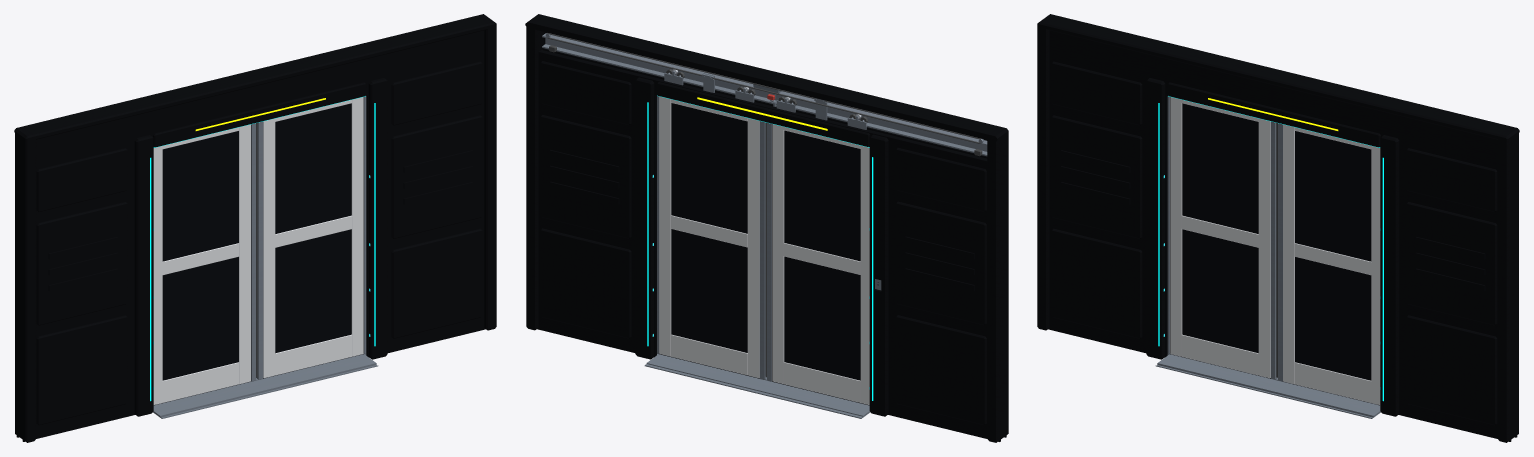
3 views of the same model, side by side, from view 1: azimuth 30°, elevation 25°; view 2: azimuth 150°, elevation 25°; view 3: azimuth 330°, elevation 25° (orthographic).
Parts seen in each view (by area): view 1: frame, leaf_R_core, leaf_L_core, leaf_R_face, leaf_L_face, threshold, leaf_R_stiles, leaf_L_stiles, reveal_strips, leaf_R_seal; view 2: frame, leaf_L_core, leaf_R_core, leaf_R_face, leaf_L_face, slide_Track, threshold, leaf_R_stiles, slide_Belt, leaf_L_stiles, reveal_strips, leaf_R_seal; view 3: frame, leaf_L_core, leaf_R_core, leaf_L_face, leaf_R_face, threshold, leaf_L_stiles, leaf_R_stiles, reveal_strips, leaf_L_seal.
Boxes of the visible parts, box(x1,y1,x2,y2) form: frame: box(14, 14, 496, 442); leaf_R_core: box(263, 97, 363, 378); leaf_L_core: box(154, 124, 251, 405); leaf_R_face: box(263, 97, 363, 378); leaf_L_face: box(153, 124, 250, 404); threshold: box(153, 354, 378, 418); leaf_R_stiles: box(256, 96, 366, 379); leaf_L_stiles: box(251, 123, 255, 381); reveal_strips: box(150, 96, 375, 401); leaf_R_seal: box(256, 123, 257, 377); frame: box(525, 14, 1008, 442); leaf_L_core: box(772, 124, 869, 405); leaf_R_core: box(659, 103, 759, 378); leaf_R_face: box(659, 96, 759, 377); leaf_L_face: box(772, 124, 869, 404); slide_Track: box(542, 33, 987, 156); threshold: box(644, 354, 870, 418); leaf_R_stiles: box(657, 96, 766, 379); slide_Belt: box(547, 33, 980, 143); leaf_L_stiles: box(767, 122, 771, 381); reveal_strips: box(647, 95, 873, 400); leaf_R_seal: box(765, 122, 766, 376); frame: box(1037, 14, 1519, 442); leaf_L_core: box(1170, 97, 1270, 378); leaf_R_core: box(1282, 124, 1379, 405); leaf_L_face: box(1170, 97, 1270, 378); leaf_R_face: box(1283, 124, 1380, 404); threshold: box(1155, 354, 1380, 418); leaf_L_stiles: box(1167, 96, 1277, 379); leaf_R_stiles: box(1278, 123, 1282, 381); reveal_strips: box(1158, 96, 1383, 401); leaf_L_seal: box(1276, 123, 1277, 377).
Size of what is drawn, in the model's own units: 4.35 by 2.7 by 0.46.
11 materials, 5 textured.
